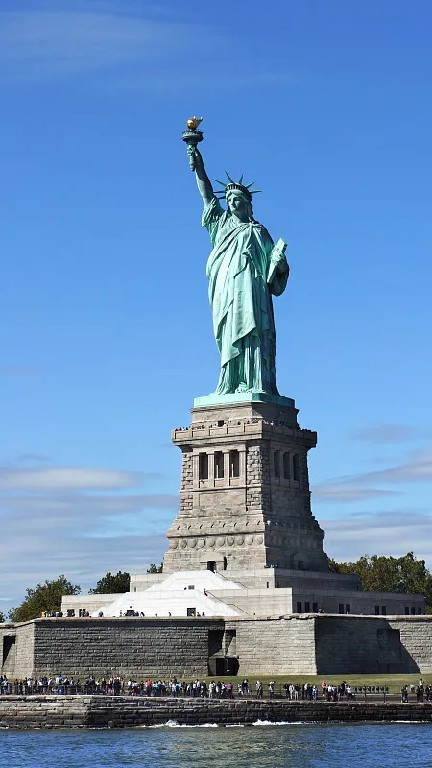SL: (162, 115, 334, 573)
